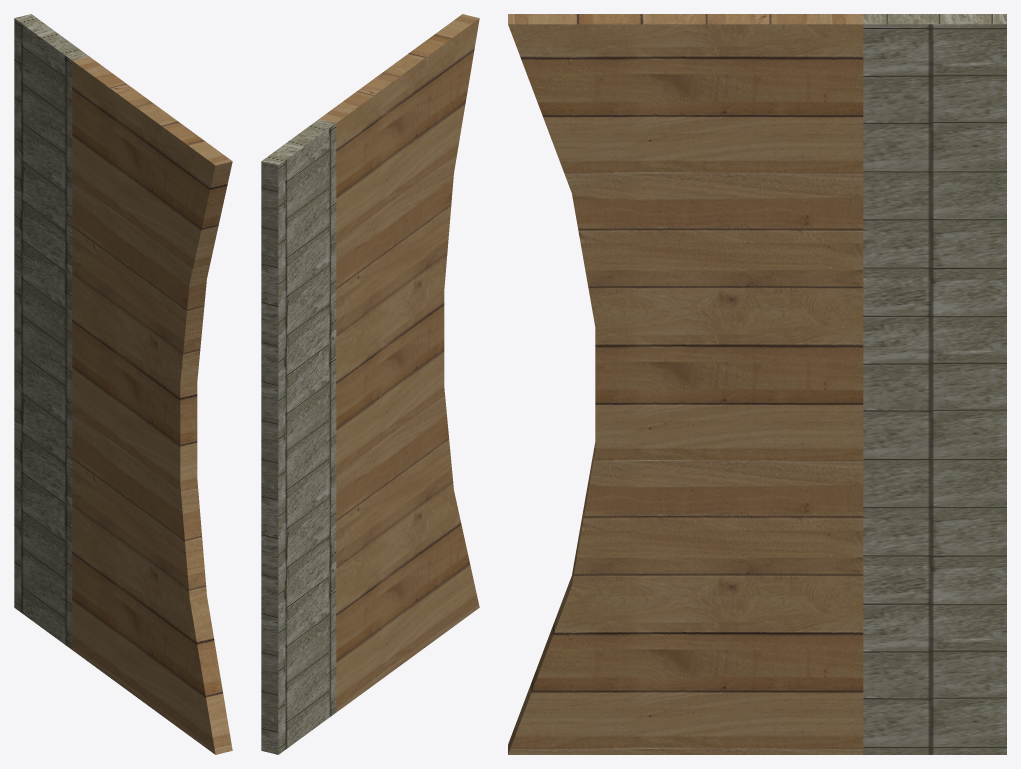
The model's file is nt_concrete_fence_128_tall_LOD1.obj.
3 renders of one model, left to right at view 1: azimuth 30°, elevation 25°; view 2: azimuth 150°, elevation 25°; view 3: azimuth 270°, elevation 25°, orthographic. The views are drawn at different scales.
Visible parts, largest first — view 1: nt_wood_fence, nt_2020_concrete_pattern_02; view 2: nt_wood_fence, nt_2020_concrete_pattern_02; view 3: nt_wood_fence, nt_2020_concrete_pattern_02.
Part boxes in pixels (<box>): nt_wood_fence: <box>72,56,232,754</box>; nt_2020_concrete_pattern_02: <box>14,14,88,649</box>; nt_wood_fence: <box>319,14,479,712</box>; nt_2020_concrete_pattern_02: <box>261,119,336,754</box>; nt_wood_fence: <box>508,14,863,754</box>; nt_2020_concrete_pattern_02: <box>863,14,1006,754</box>.
Bounding box in the file's own units: 9.95 × 326 × 202.
2 materials, 2 textured.
